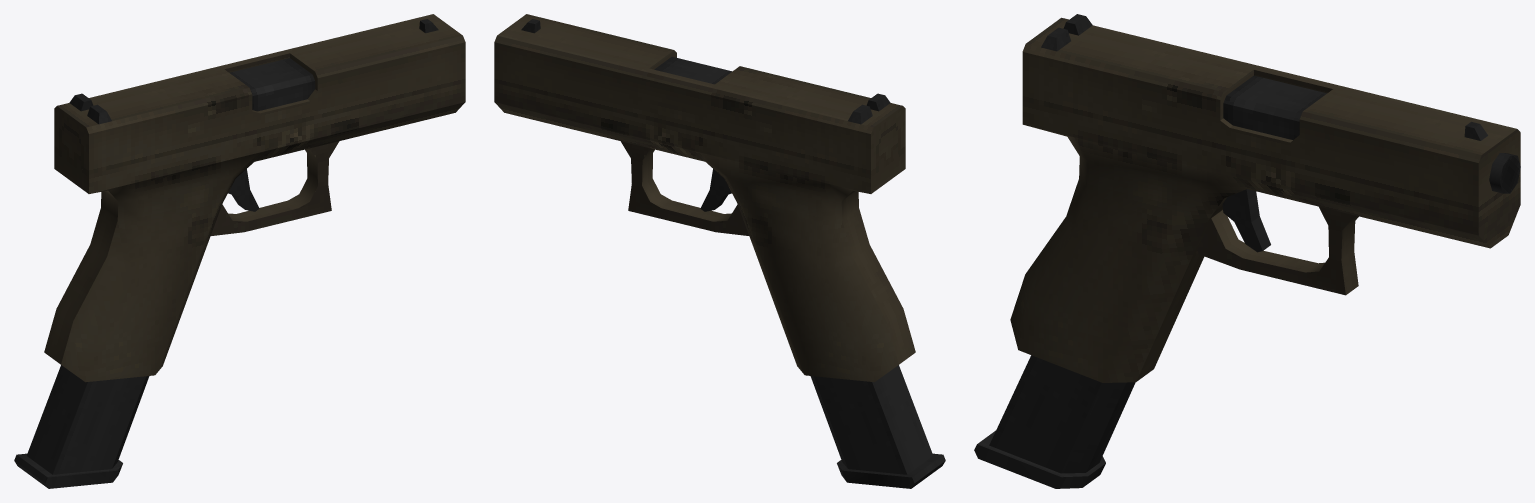
The model's file is pistol_mp_1_1.glb.
3 renders of one model, left to right at view 1: azimuth 30°, elevation 25°; view 2: azimuth 150°, elevation 25°; view 3: azimuth 330°, elevation 25°, orthographic. The views are drawn at different scales.
Parts seen in each view (by area): view 1: pistol_mp_1_1, pistol_mp_1_1_slide, pistol_mp_1_1_mag_initial, pistol_mp_1_1_trigger; view 2: pistol_mp_1_1, pistol_mp_1_1_slide, pistol_mp_1_1_mag_initial, pistol_mp_1_1_trigger; view 3: pistol_mp_1_1, pistol_mp_1_1_slide, pistol_mp_1_1_mag_initial, pistol_mp_1_1_trigger.
Boxes of the visible parts, box(x1,y1,x2,y2) form: pistol_mp_1_1: box(44, 58, 465, 382); pistol_mp_1_1_slide: box(54, 14, 465, 174); pistol_mp_1_1_mag_initial: box(14, 365, 149, 488); pistol_mp_1_1_trigger: box(228, 169, 259, 211); pistol_mp_1_1: box(494, 56, 915, 382); pistol_mp_1_1_slide: box(494, 14, 905, 174); pistol_mp_1_1_mag_initial: box(810, 365, 945, 488); pistol_mp_1_1_trigger: box(700, 169, 731, 211); pistol_mp_1_1: box(1010, 75, 1520, 382); pistol_mp_1_1_slide: box(1022, 14, 1520, 211); pistol_mp_1_1_mag_initial: box(974, 355, 1135, 488); pistol_mp_1_1_trigger: box(1222, 189, 1270, 252).
Bounding box in the file's own units: 0.2842 × 0.2359 × 0.04.
Materials: 2 (2 with a texture image).
